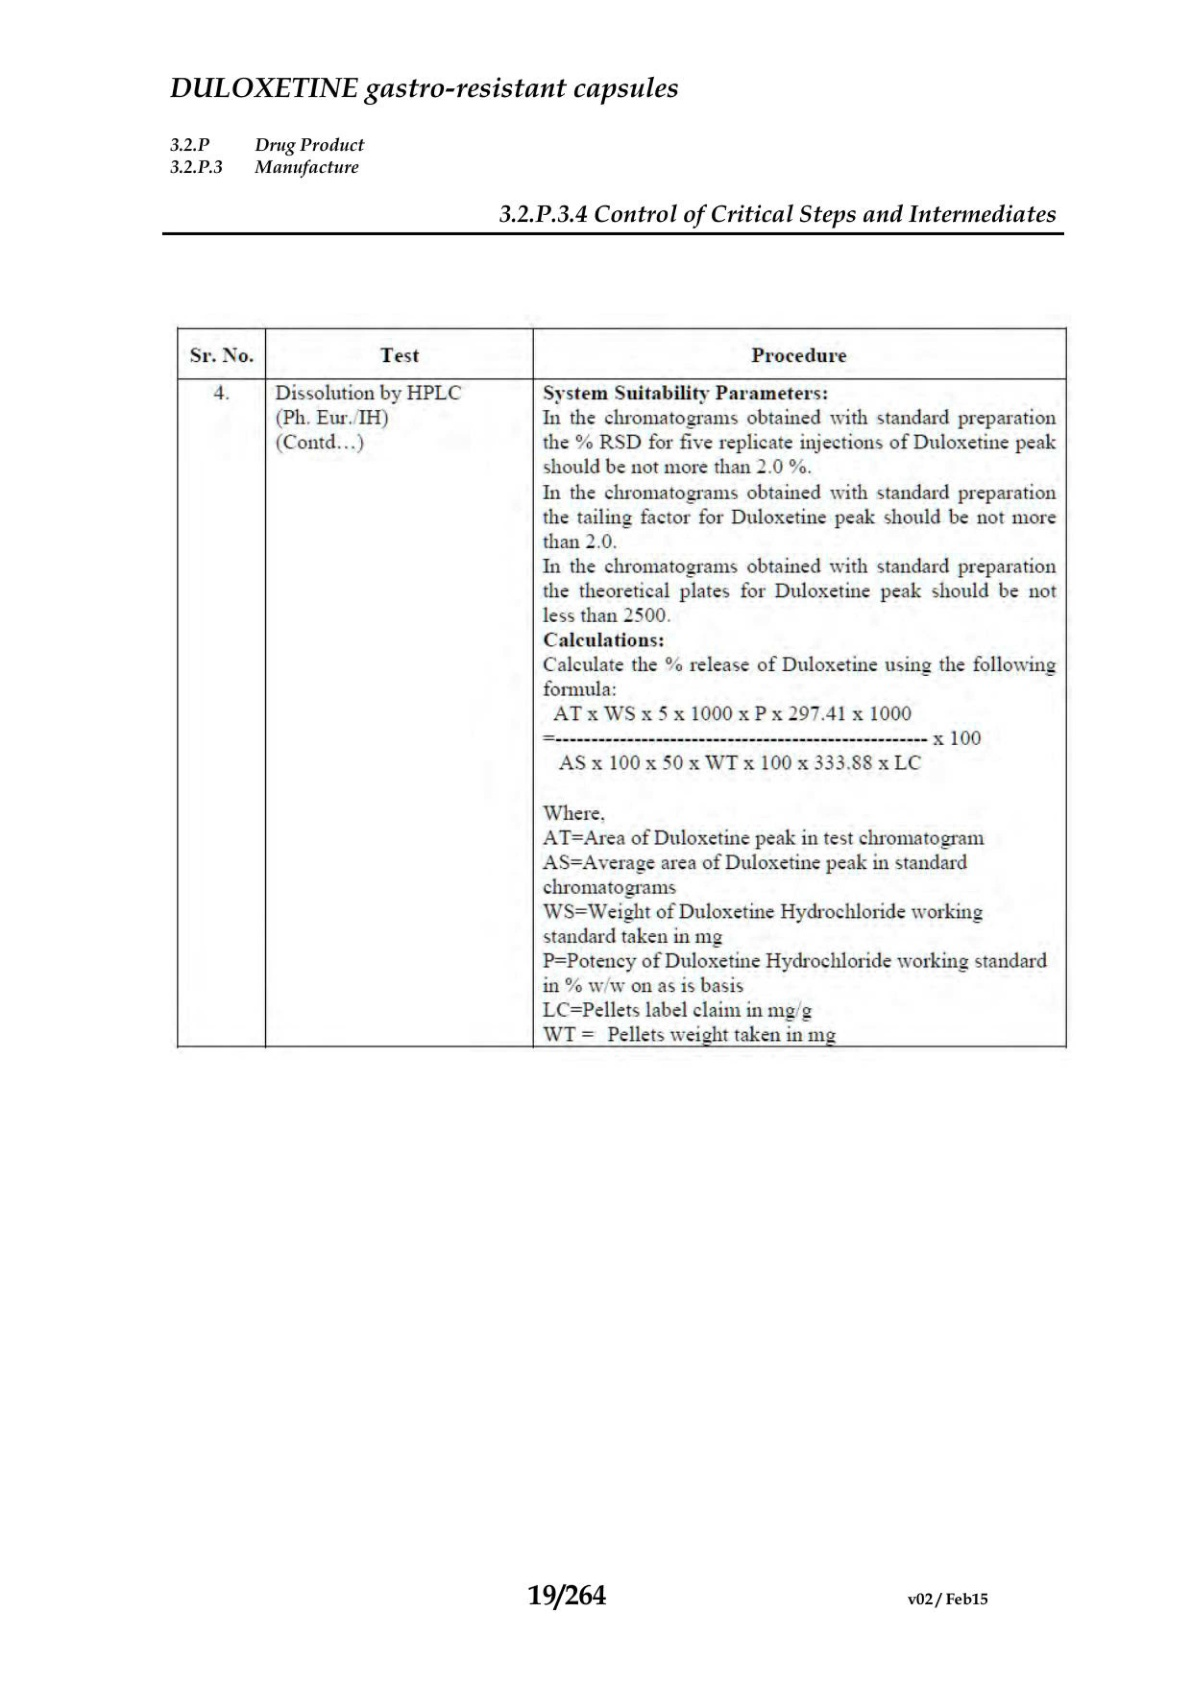full_lined: (175, 326, 1068, 1048)
